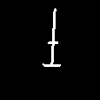double_crochet: (43, 9, 60, 66)
